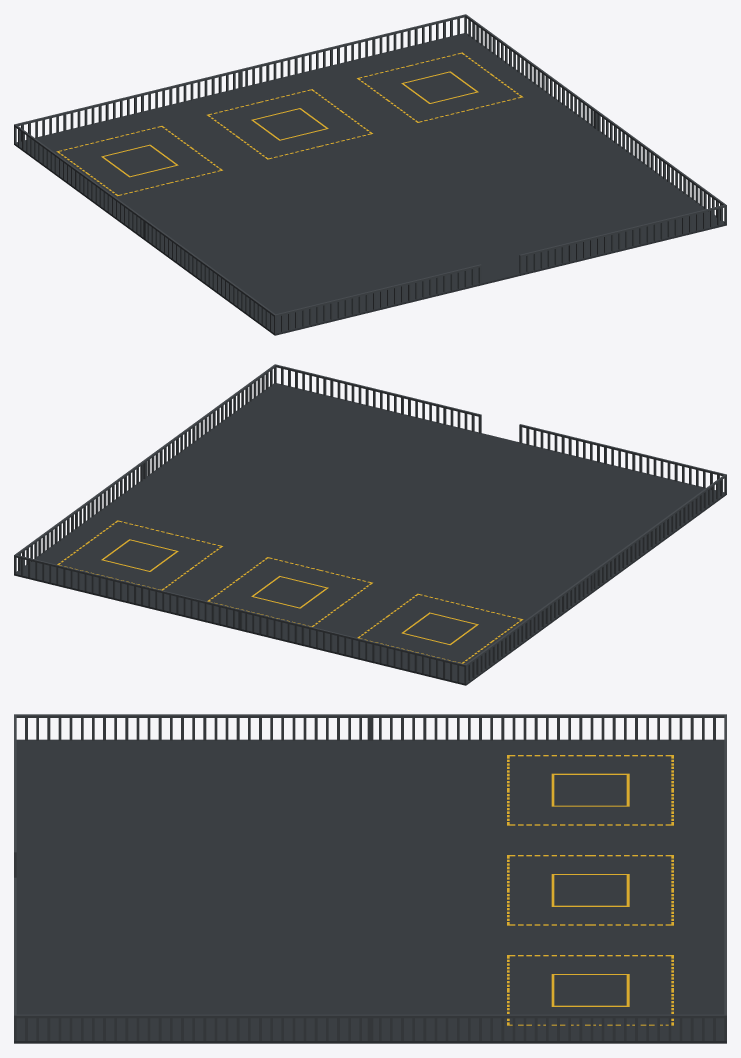
Rendered from level1.obj.
3 renders of one model, top to bottom at view 1: azimuth 30°, elevation 25°; view 2: azimuth 150°, elevation 25°; view 3: azimuth 270°, elevation 25°, orthographic. The views are drawn at different scales.
Bounding box in the file's own units: 25.6 × 1.1 × 25.6.
1 material, 1 textured.
